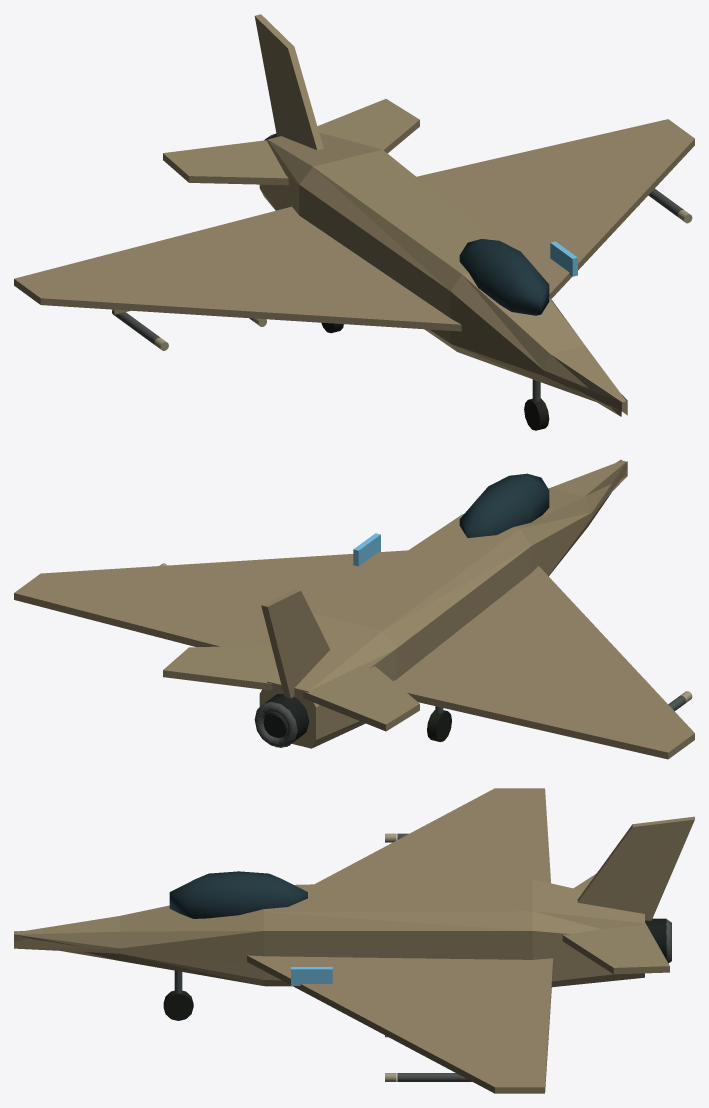
File: attackAircraft-lod.glb
The picture shows the model from 3 angles, top to bottom: view 1: azimuth 30°, elevation 25°; view 2: azimuth 150°, elevation 25°; view 3: azimuth 270°, elevation 25°; orthographic projection. The views are drawn at different scales.
Visible parts, largest first — view 1: equipment (×2); view 2: equipment (×2), marking; view 3: equipment (×2), marking.
Boxes of the visible parts, box(x1,y1,x2,y2) form: equipment (×2): box(14, 14, 694, 430); equipment (×2): box(14, 459, 694, 759); marking: box(353, 533, 380, 566); equipment (×2): box(14, 788, 694, 1093); marking: box(291, 967, 332, 985).
Bounding box in the file's own units: 8.5 × 2.64 × 8.17.
